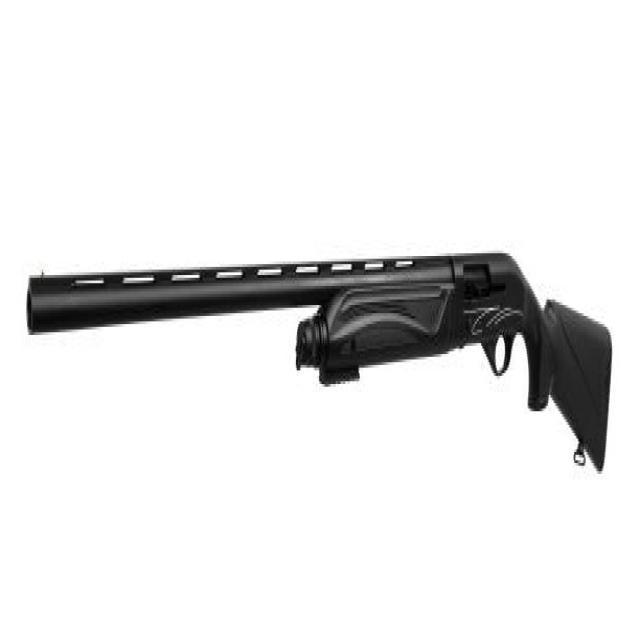rifle: (25, 246, 616, 479)
